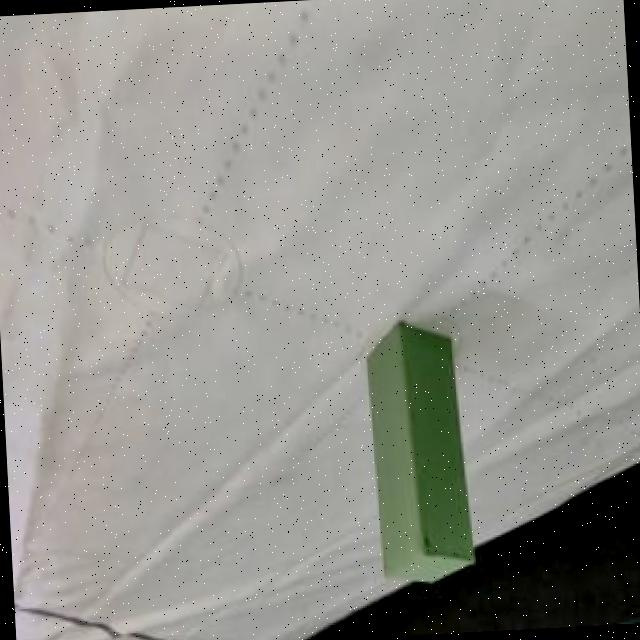greenbox: (367, 319, 477, 586)
